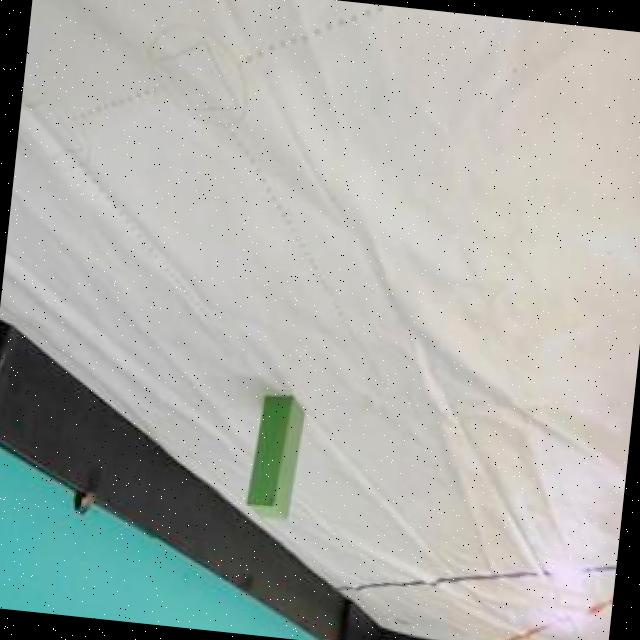greenbox: (242, 388, 309, 523)
